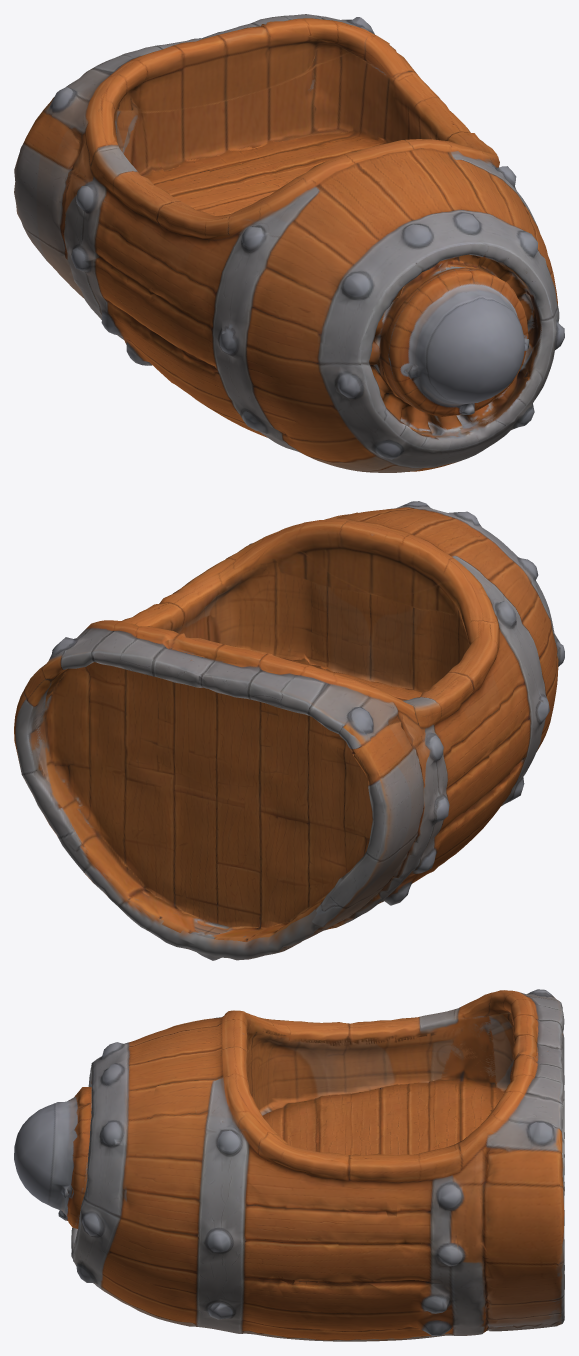
Rendered from FlightRaft_BodyEmpty.fbx.
3 views of the same model, one above another, from view 1: azimuth 30°, elevation 25°; view 2: azimuth 150°, elevation 25°; view 3: azimuth 270°, elevation 25° (orthographic). The views are drawn at different scales.
Visible parts, largest first — view 1: texture_mapping; view 2: texture_mapping; view 3: texture_mapping.
Boxes of the visible parts, x1,y1,x2,y2 form: texture_mapping: (14,14,564,472); texture_mapping: (14,501,564,960); texture_mapping: (14,989,564,1341).
Size of the model in its own units: 0.7366 by 0.9966 by 0.5801.
1 material, 1 textured.
